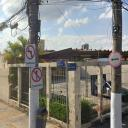NoSeguir: (31, 68, 42, 82)
